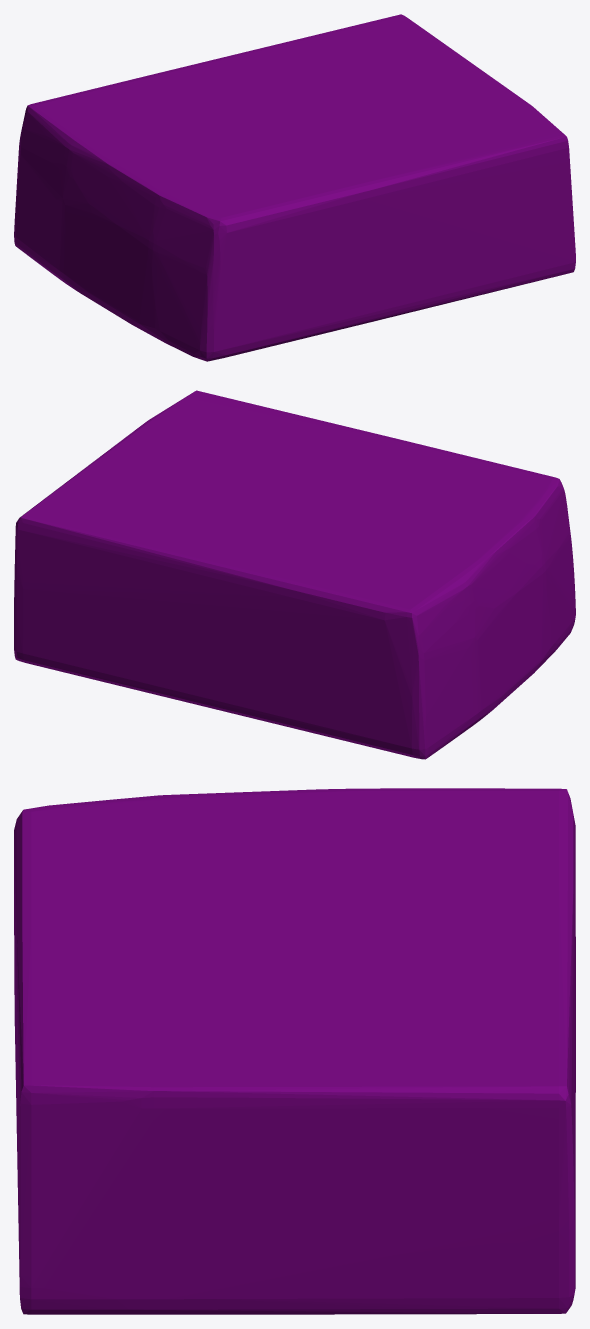
3 renders of one model, top to bottom at view 1: azimuth 30°, elevation 25°; view 2: azimuth 150°, elevation 25°; view 3: azimuth 270°, elevation 25°, orthographic. The views are drawn at different scales.
Bounding box in the file's own units: 0.1922 × 0.064 × 0.1443.
